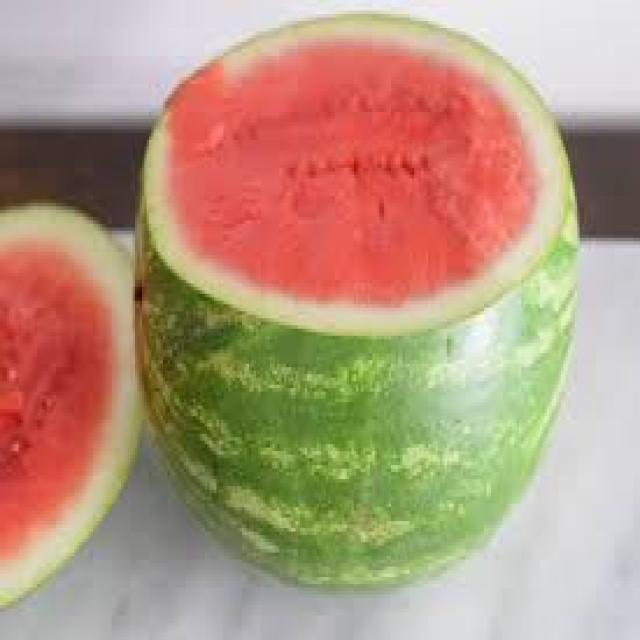watermelon: (132, 7, 580, 588), (0, 195, 144, 608)
